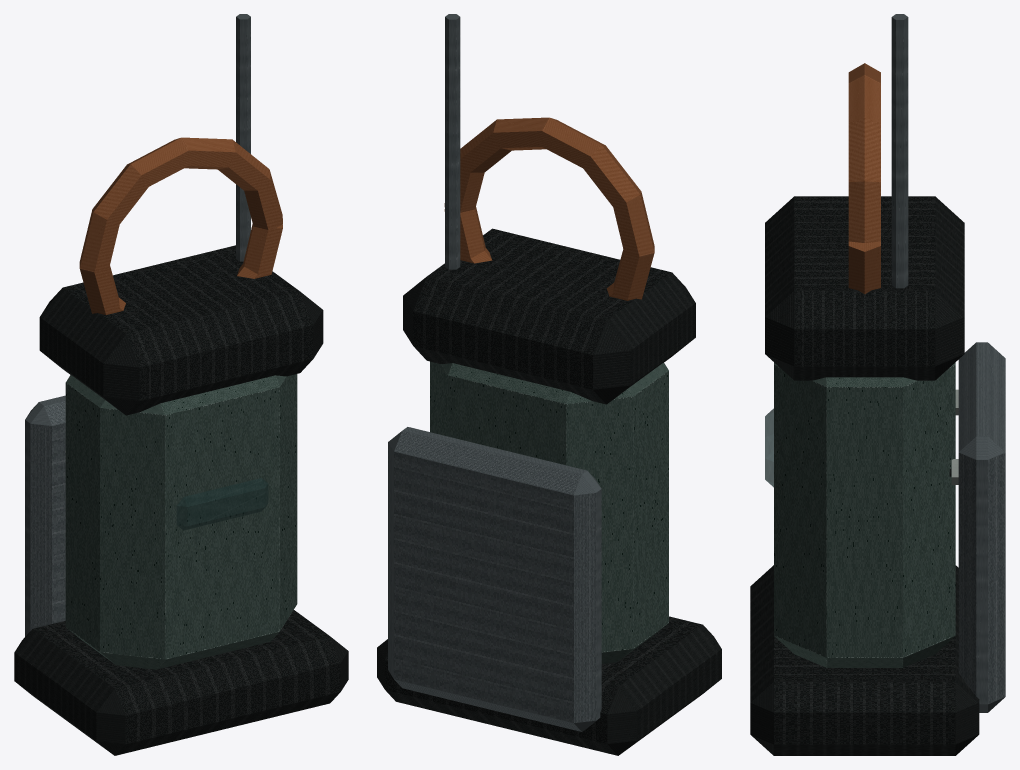
The model's file is blender_emf_array_1_deployed.glb.
3 renders of one model, left to right at view 1: azimuth 30°, elevation 25°; view 2: azimuth 150°, elevation 25°; view 3: azimuth 270°, elevation 25°, orthographic. The views are drawn at different scales.
Visible parts, largest first — view 1: blender_emf_array_1_deployed; view 2: blender_emf_array_1_deployed; view 3: blender_emf_array_1_deployed.
Boxes of the visible parts, left/top/right/bottom form: blender_emf_array_1_deployed: left=14, top=14, right=348, bottom=755; blender_emf_array_1_deployed: left=377, top=14, right=721, bottom=755; blender_emf_array_1_deployed: left=750, top=14, right=1005, bottom=755.
Bounding box in the file's own units: 0.055 × 0.136 × 0.0435.
Materials: 6 (6 with a texture image).
